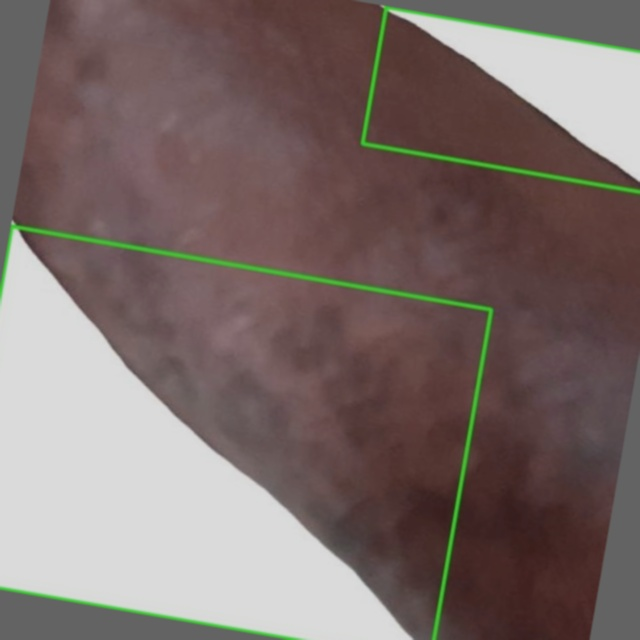Eczema: (0, 226, 491, 639), (363, 7, 639, 192)
